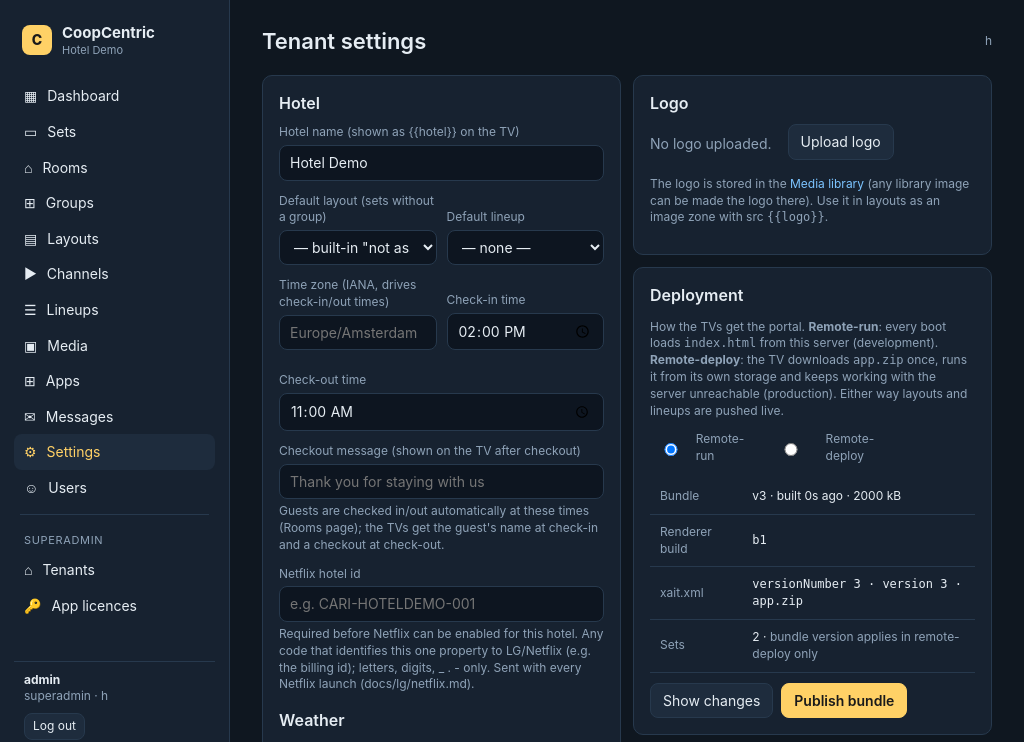
Test case: Part D deployment › settings: deployment card shows the bundle, dry-run diff, publish, mode switch
This screenshot has width=1024, height=742.
Expected: the cell with test id "bundle-version" shows "v3", [742,479,975,514]
Expected: the radio button labelled "Remote-run" is checked, [655,443,687,456]
What coordinates should you click on to do the following:
click the button "Show changes"
I would click on:
 (712, 700)
Its box is [650,682,773,718].
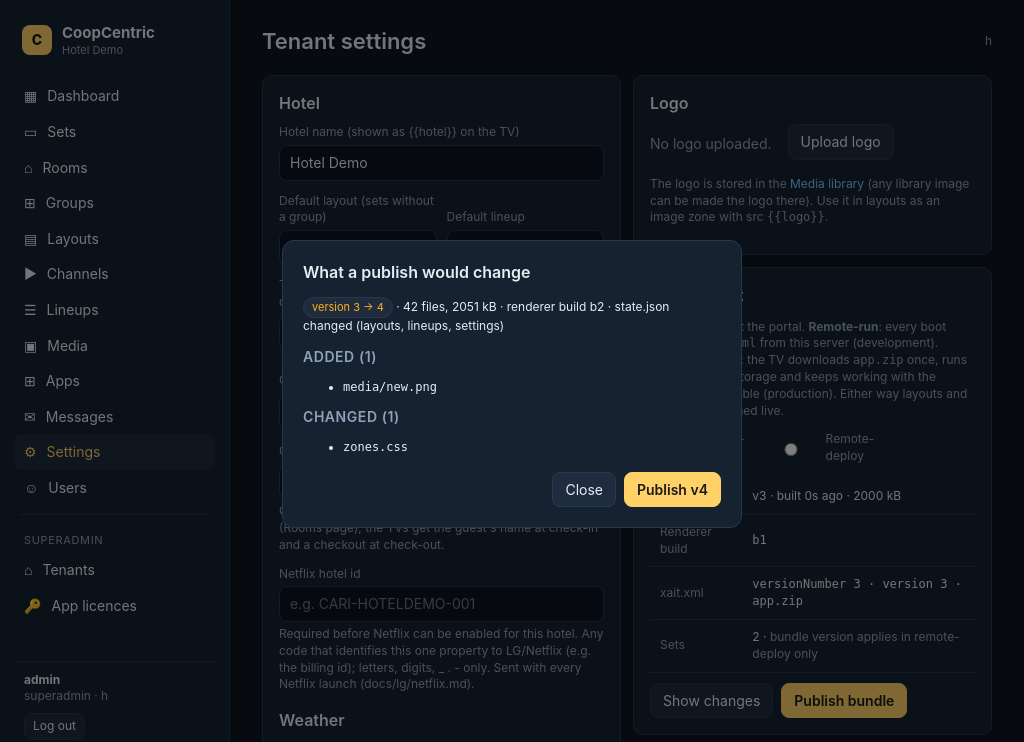
Result: the element with test id "diff-summary" shows "version 3 → 4" at [303,297,721,335]
Result: the list item "media/new.png" is shown at [343,380,437,394]
Result: the list item "zones.css" is shown at [343,440,408,454]
What coordinates should you click on to do the following:
click the button "Publish v4"
I would click on:
 (672, 490)
Its box is [624,472,721,508].
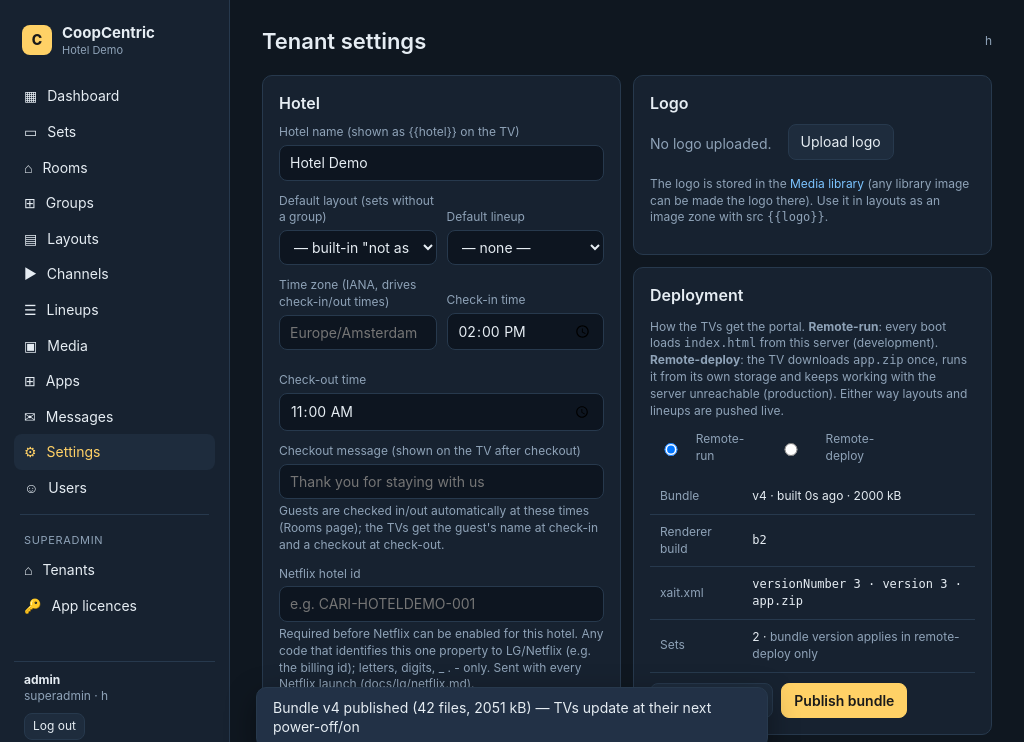
Result: the cell with test id "bundle-version" shows "v4" at [742,479,975,514]
What coordinates should you click on to do the following:
click the radio button labelled "Remote-deploy"
I would click on:
 (791, 450)
Its box is [765,443,817,456].
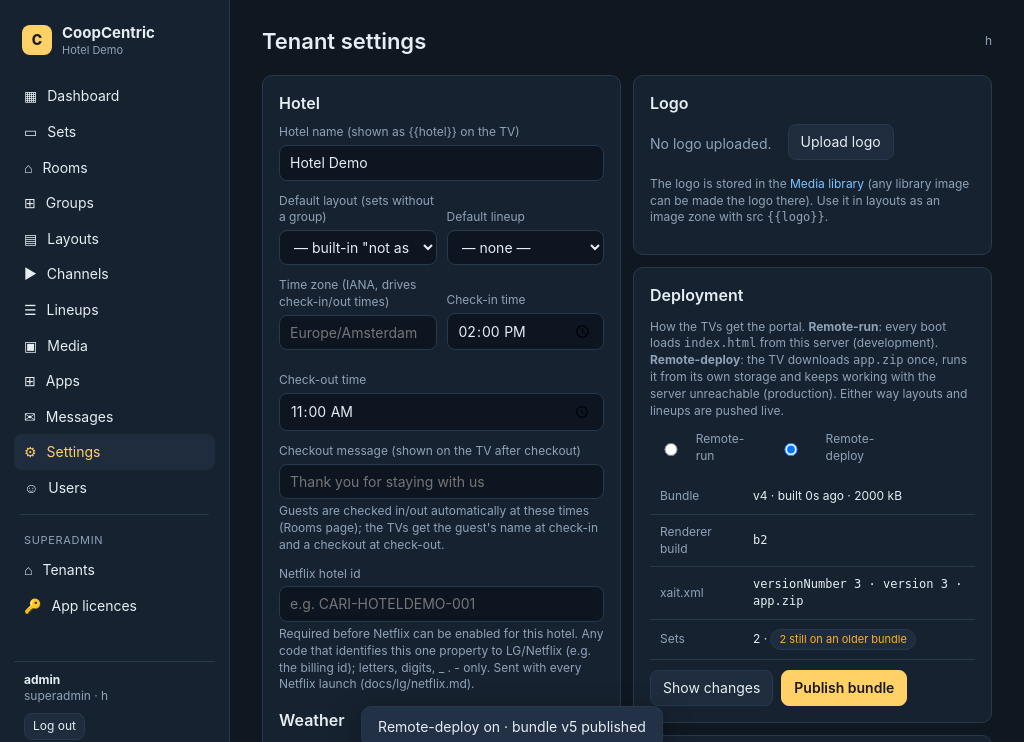
Result: the radio button labelled "Remote-deploy" is checked at [765,443,817,456]
Result: the text with test id "pending-sets" reads "2 still on an older bundle" at [770,629,916,650]
